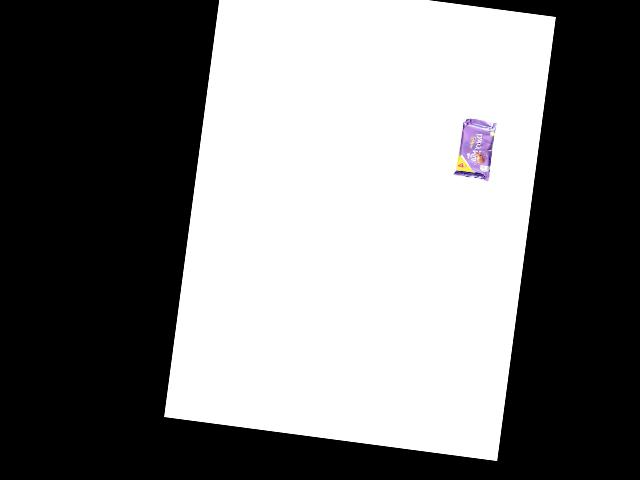chocolate: (453, 115, 501, 188)
